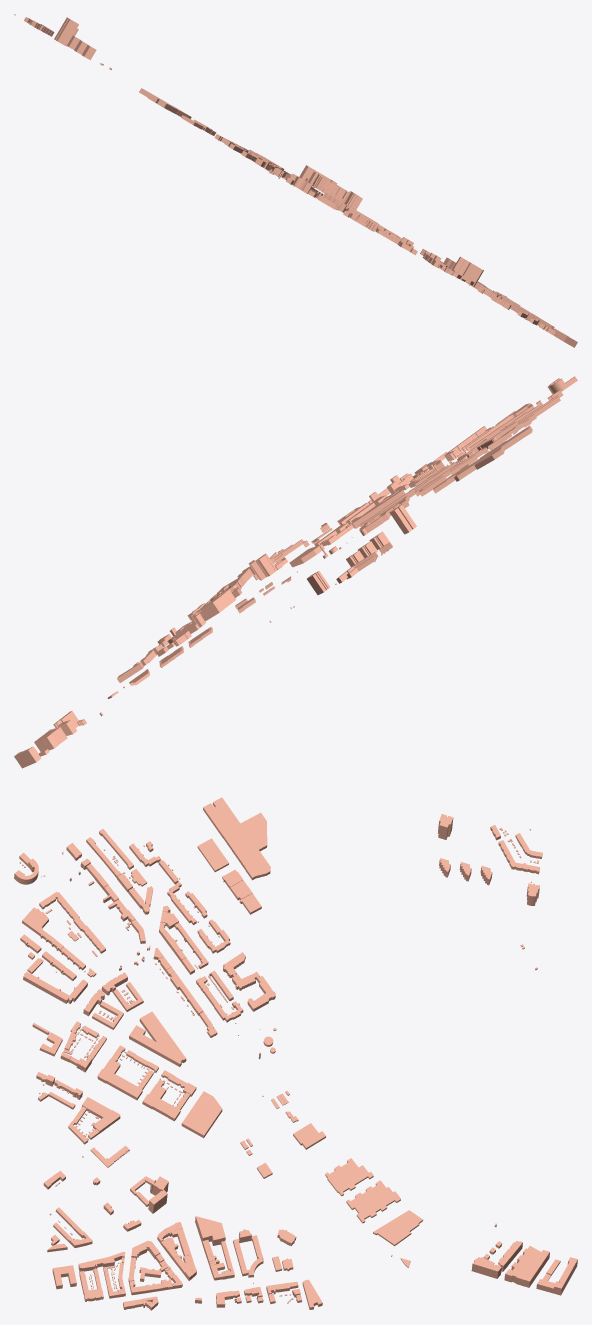
3 renders of one model, top to bottom at view 1: azimuth 30°, elevation 25°; view 2: azimuth 150°, elevation 25°; view 3: azimuth 270°, elevation 25°, orthographic. The views are drawn at different scales.
Bounding box in the file's own units: 1057 × 829 × 1300.
